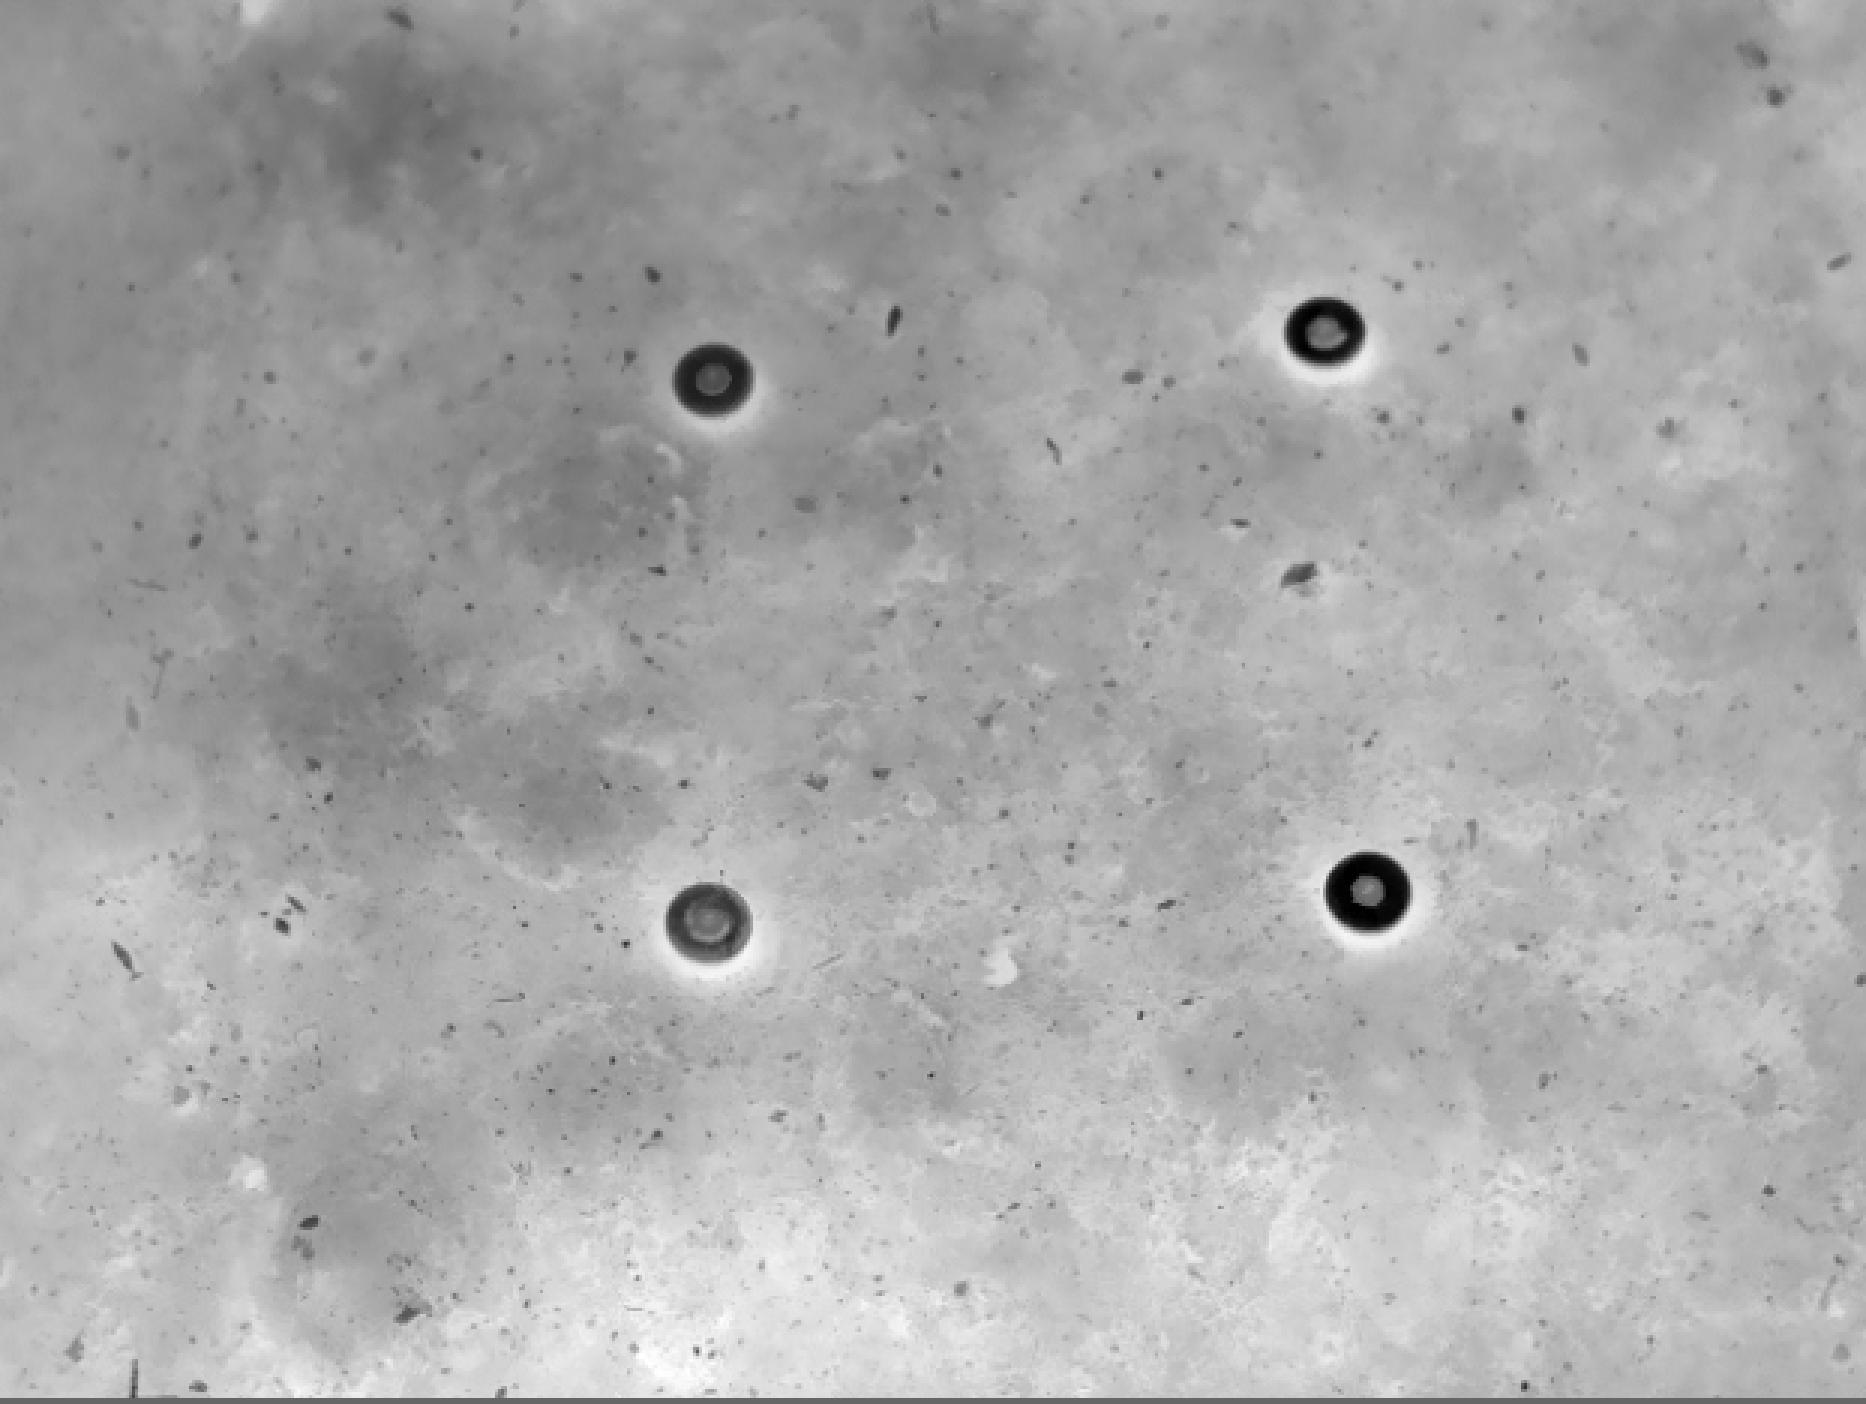mines-gjV8: (1322, 842, 1423, 936), (673, 872, 757, 981), (1282, 288, 1367, 386), (679, 342, 763, 428)
